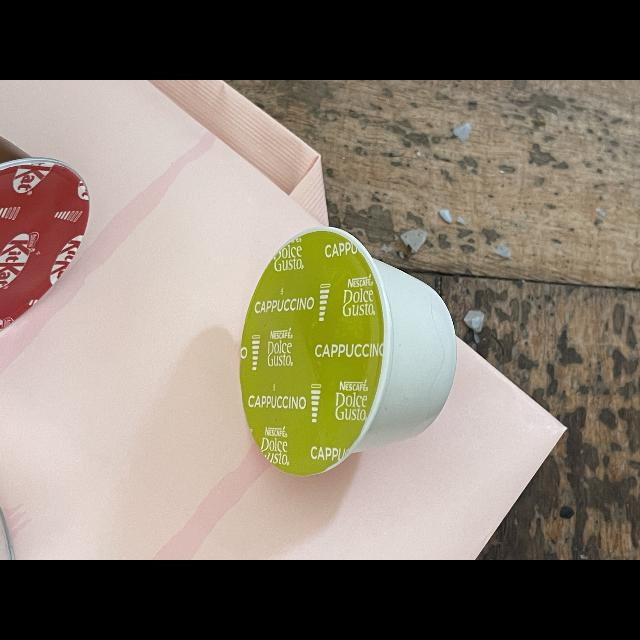intact_capsule: (230, 220, 486, 482)
